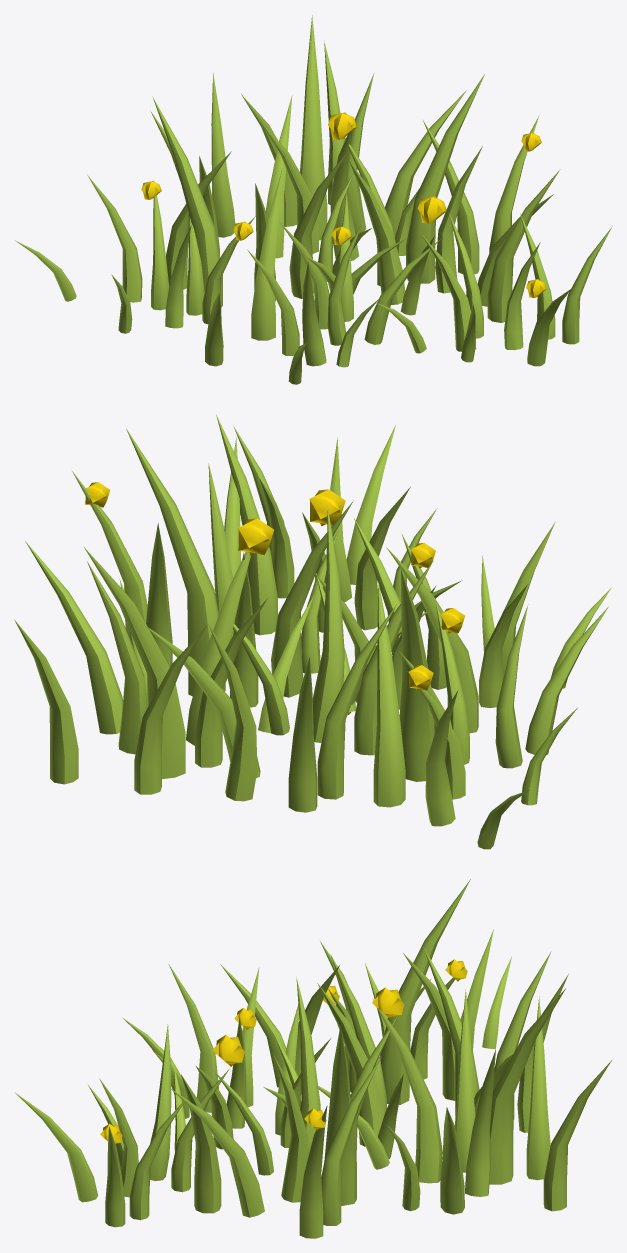
The picture shows the model from 3 angles, top to bottom: view 1: azimuth 30°, elevation 25°; view 2: azimuth 150°, elevation 25°; view 3: azimuth 270°, elevation 25°; orthographic projection. The views are drawn at different scales.
Parts seen in each view (by area): view 1: default5_Material_0; view 2: default5_Material_0; view 3: default5_Material_0.
Boxes of the visible parts, x1,y1,x2,y2 form: default5_Material_0: (15,15,612,384); default5_Material_0: (14,414,611,849); default5_Material_0: (14,879,612,1238).
Size of the model in its own units: 0.034 by 0.0147 by 0.0364.
Materials: 1 (1 with a texture image).
